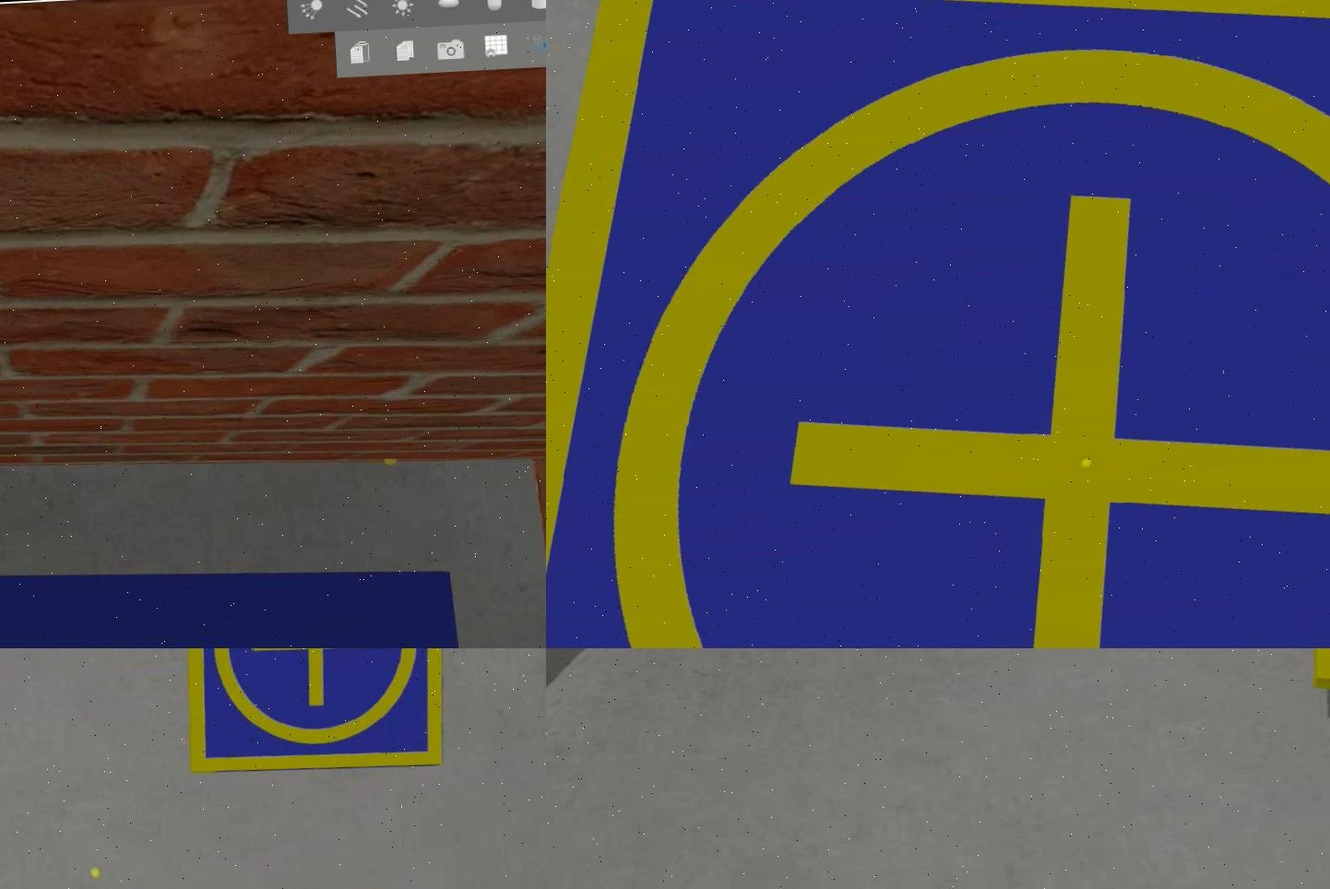small_base: (545, 1, 1328, 649), (177, 649, 452, 779)
